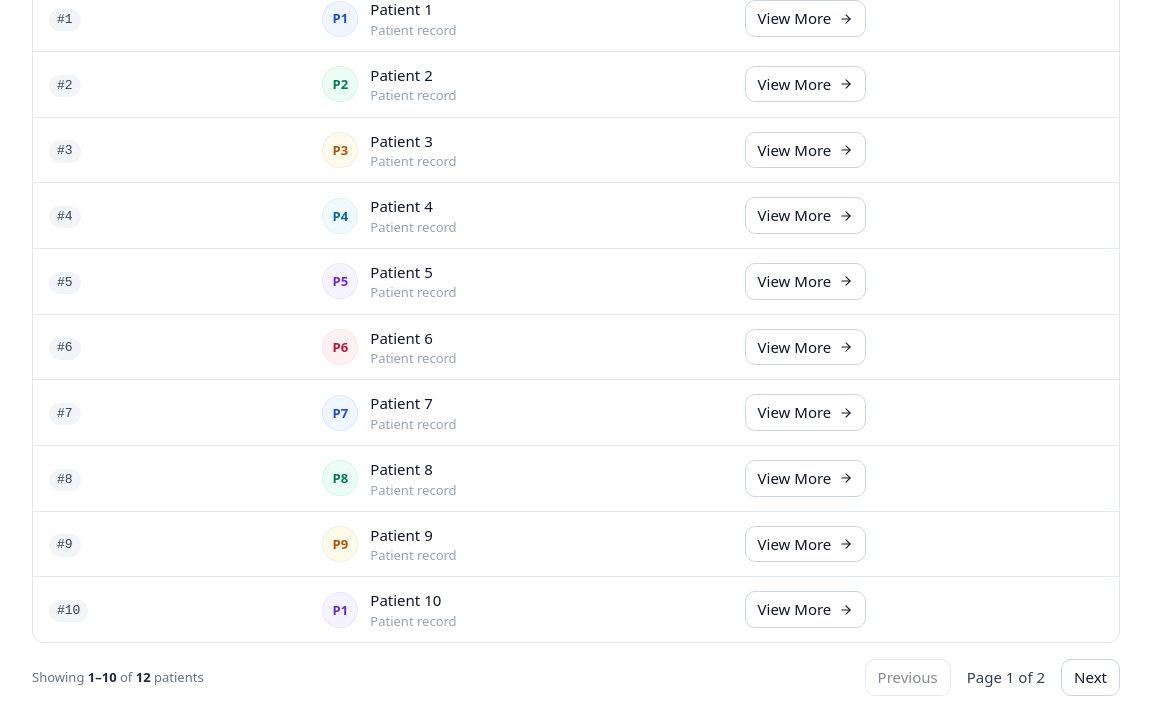
it: PatientRecordsPage — all patients with pagination › moves to the second page with Next
(page scrolled)
What coordinates should you click on to do the following:
click the button "Next"
I would click on:
 (1091, 677)
Its box is [1061,659,1120,696].
(page scrolled)
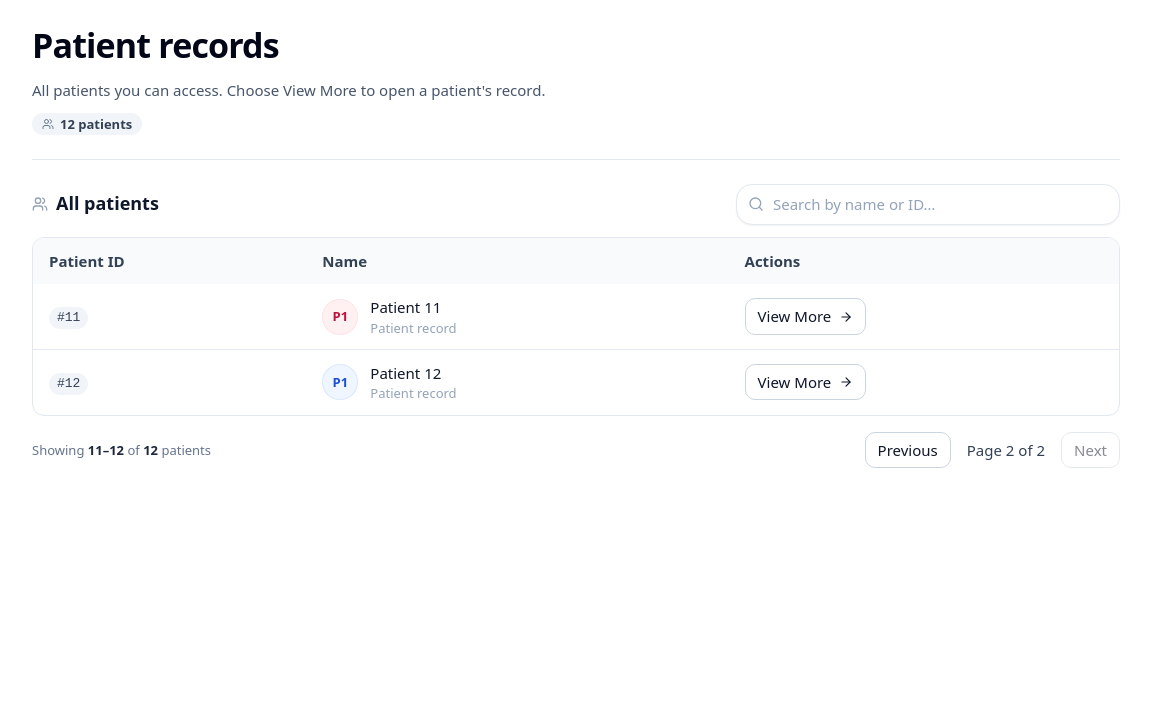
Expected: the text "Patient 11" is shown, [370,297,441,317]
Expected: the text "Patient 12" is shown, [370,363,441,383]
Expected: the text "Page 2 of 2" is shown, [967,439,1045,461]
